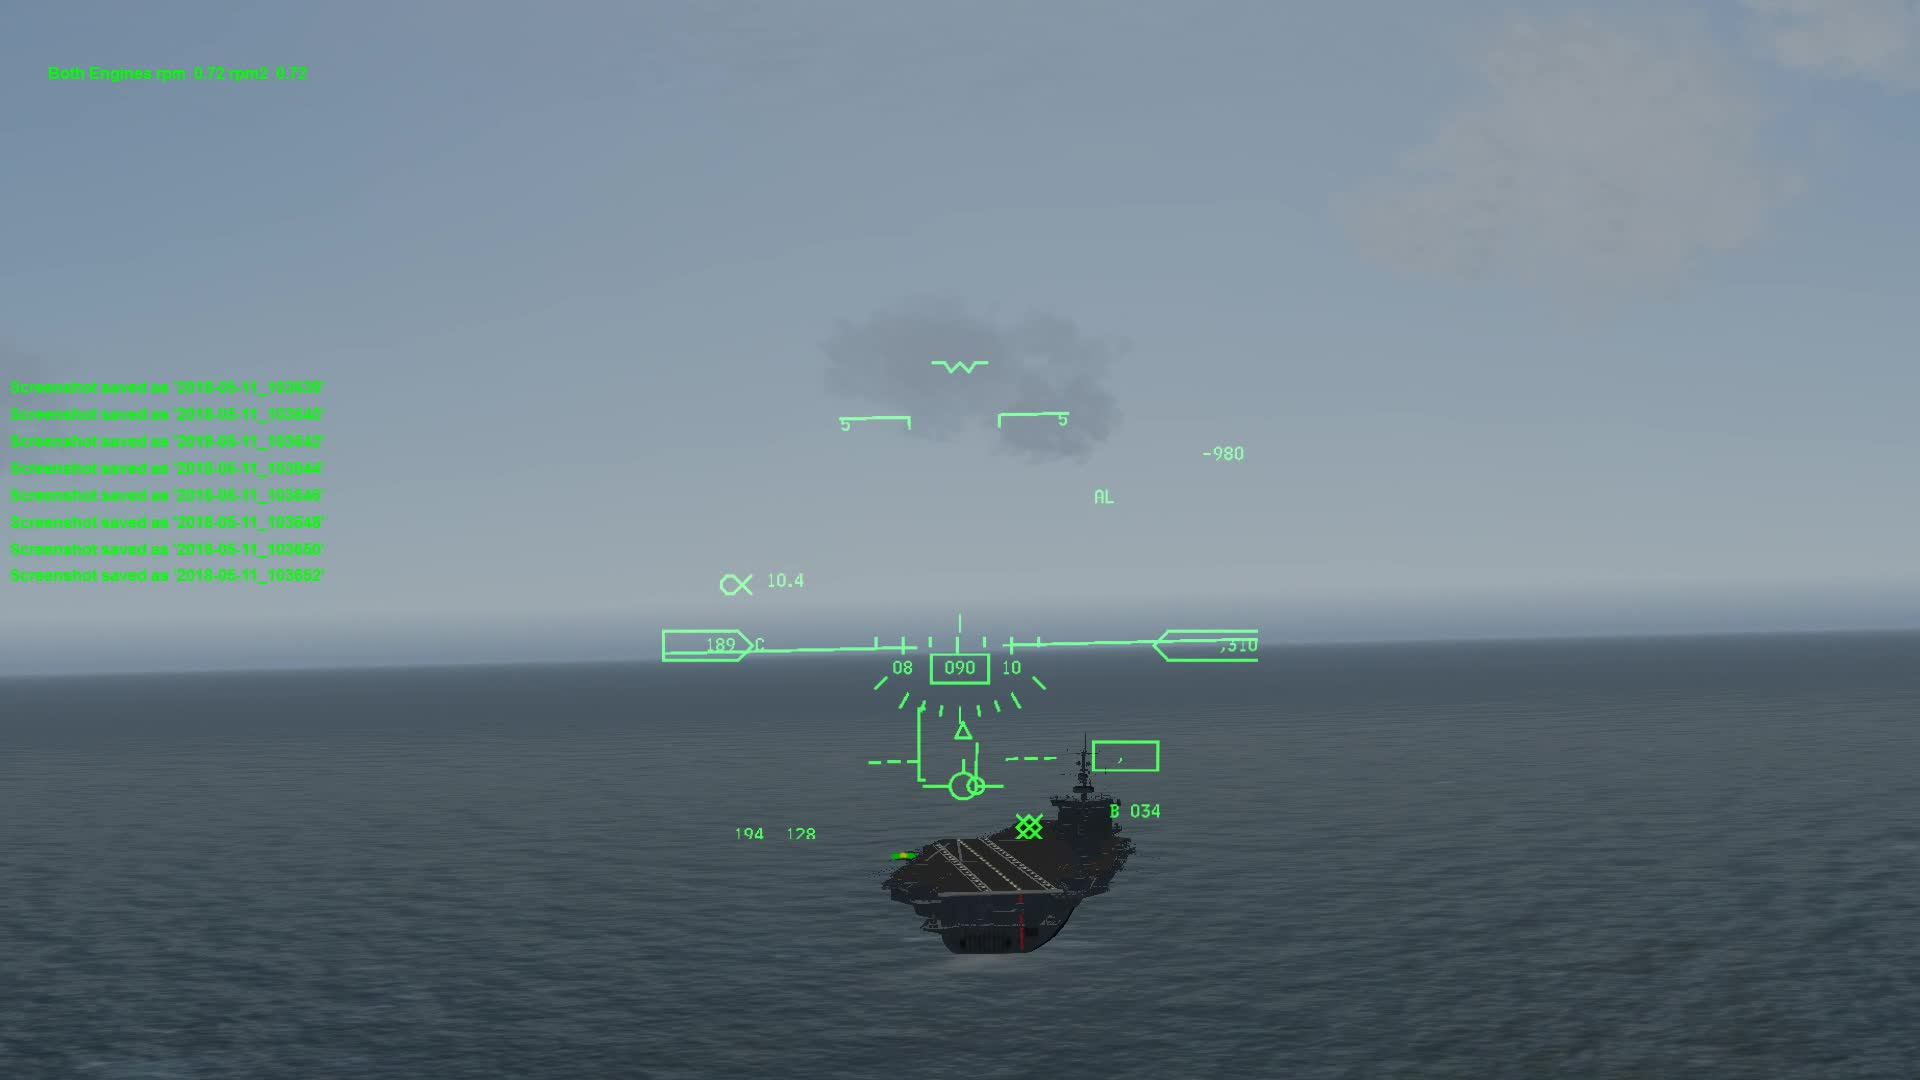speed vector: (916, 749, 1010, 806)
